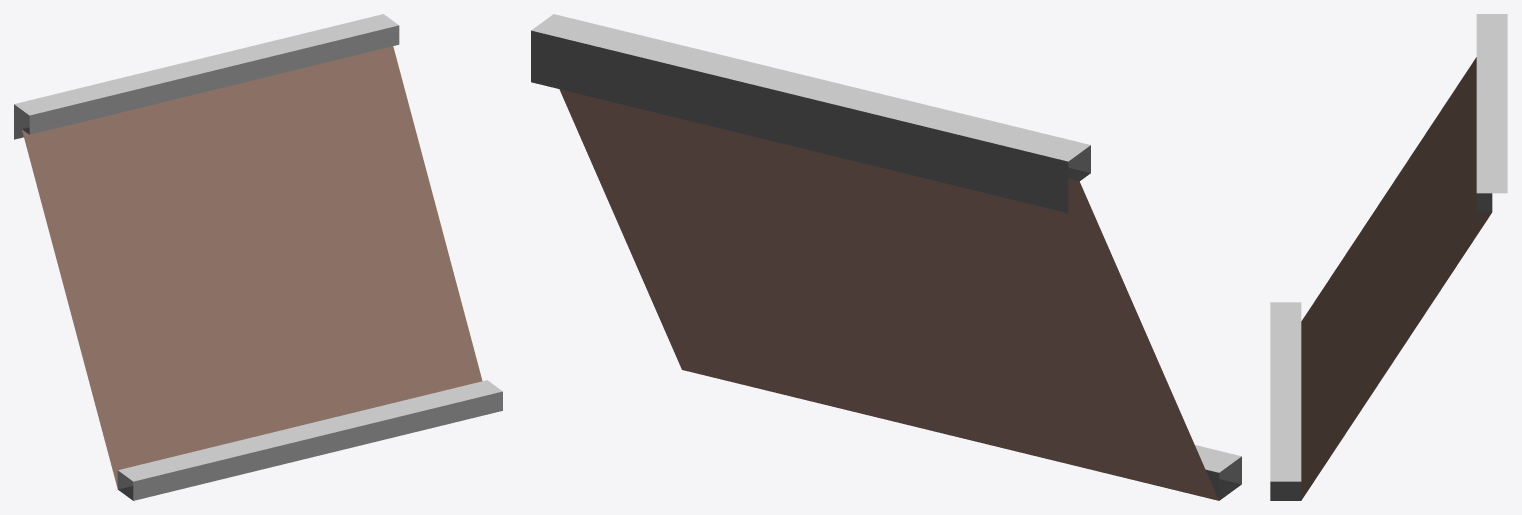
The model's file is Roof03_LightCenter.fbx.
3 views of the same model, side by side, from view 1: azimuth 30°, elevation 25°; view 2: azimuth 150°, elevation 25°; view 3: azimuth 270°, elevation 25° (orthographic). The views are drawn at different scales.
Visible parts, largest first — view 1: Roof03_LightCenter; view 2: Roof03_LightCenter; view 3: Roof03_LightCenter.
Part boxes in pixels (box(x1,y1,x2,y2)): Roof03_LightCenter: box(14, 14, 502, 500); Roof03_LightCenter: box(531, 14, 1241, 500); Roof03_LightCenter: box(1270, 14, 1507, 500).
Bounding box in the file's own units: 1 × 0.8 × 0.5594.
